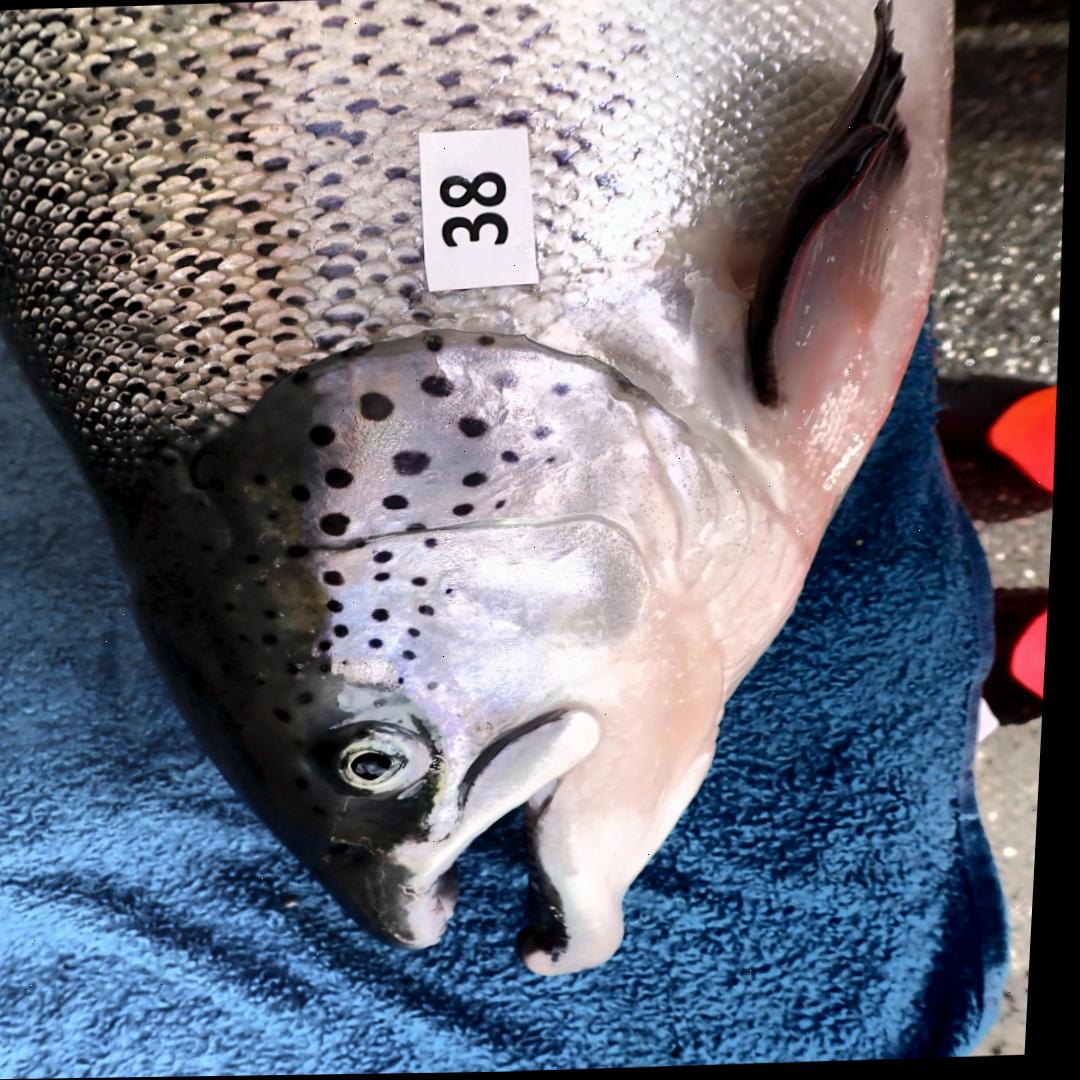spot: (365, 393, 398, 422), (397, 452, 435, 477), (462, 417, 495, 439), (324, 514, 357, 536), (491, 371, 524, 393), (425, 376, 457, 398), (314, 426, 341, 448), (331, 467, 358, 489), (552, 381, 578, 399), (467, 472, 493, 488), (387, 494, 413, 510), (536, 426, 557, 442), (329, 571, 350, 587), (429, 334, 447, 352), (407, 522, 433, 534), (297, 485, 315, 502), (457, 503, 478, 517), (479, 335, 500, 348), (378, 610, 396, 623), (339, 624, 357, 637), (379, 552, 397, 563), (334, 600, 349, 613), (324, 640, 339, 653), (430, 537, 445, 549), (417, 577, 435, 587), (507, 452, 523, 463), (382, 572, 397, 583), (425, 606, 440, 617), (432, 681, 447, 692), (410, 651, 424, 662), (377, 638, 389, 650), (413, 629, 428, 638), (499, 500, 511, 509), (452, 589, 462, 595), (551, 458, 559, 465), (405, 677, 411, 685)
